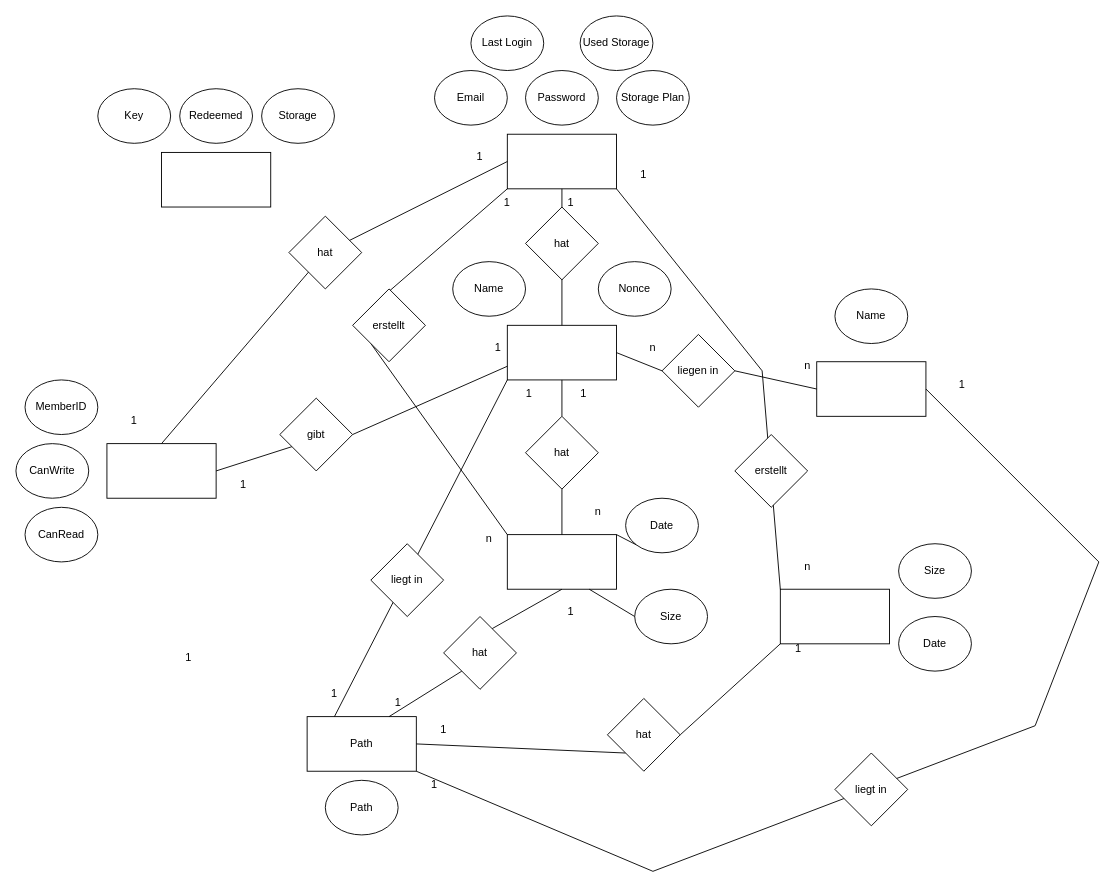
This 1116x888 diagram has some shape labels left out. The shapes that lost their labels are listed below. From the top down, each one's box as (x1, y1, x2, y2) in pixels, then its label:
(161, 152, 271, 207): Subscription Keys
(506, 133, 617, 189): User
(506, 324, 617, 380): Files
(816, 361, 926, 416): Folders
(106, 443, 216, 498): Access
(506, 534, 617, 589): File History
(779, 588, 890, 644): Folder History
